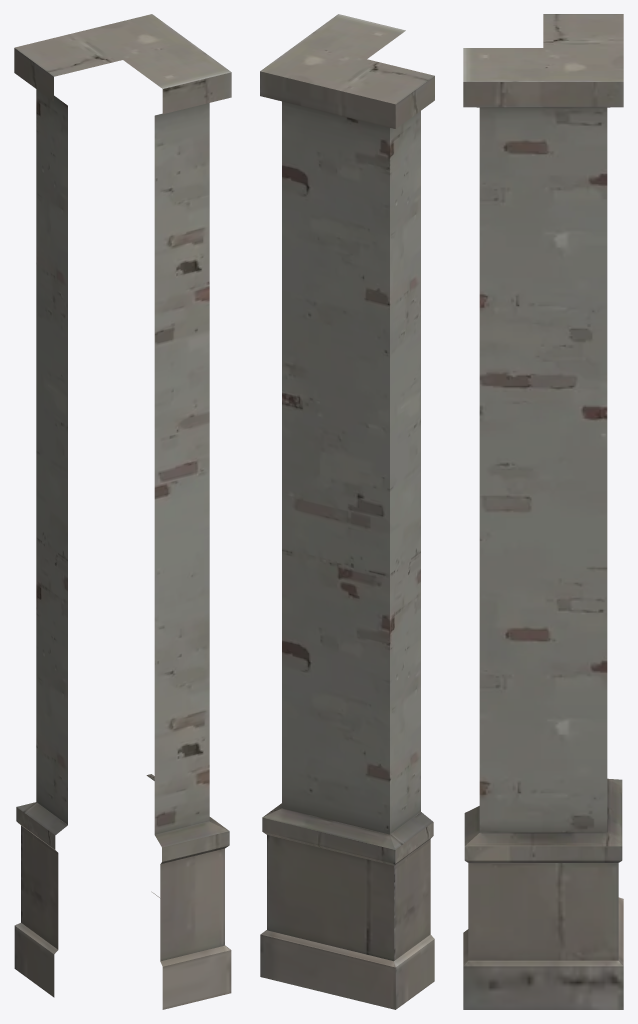
3 renders of one model, left to right at view 1: azimuth 30°, elevation 25°; view 2: azimuth 150°, elevation 25°; view 3: azimuth 270°, elevation 25°, orthographic. The views are drawn at different scales.
Visible parts, largest first — view 1: body0_model0_lod0_mesh0; view 2: body0_model0_lod0_mesh0; view 3: body0_model0_lod0_mesh0.
Part boxes in pixels (x1,y1,x2,y2): body0_model0_lod0_mesh0: (14,14,231,1009); body0_model0_lod0_mesh0: (260,14,434,1009); body0_model0_lod0_mesh0: (463,14,623,1009).
Bounding box in the file's own units: 40.13 × 256 × 40.13.
Materials: 1 (1 with a texture image).
